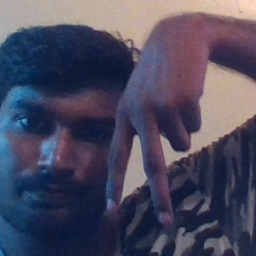Y: (95, 68, 210, 232)
